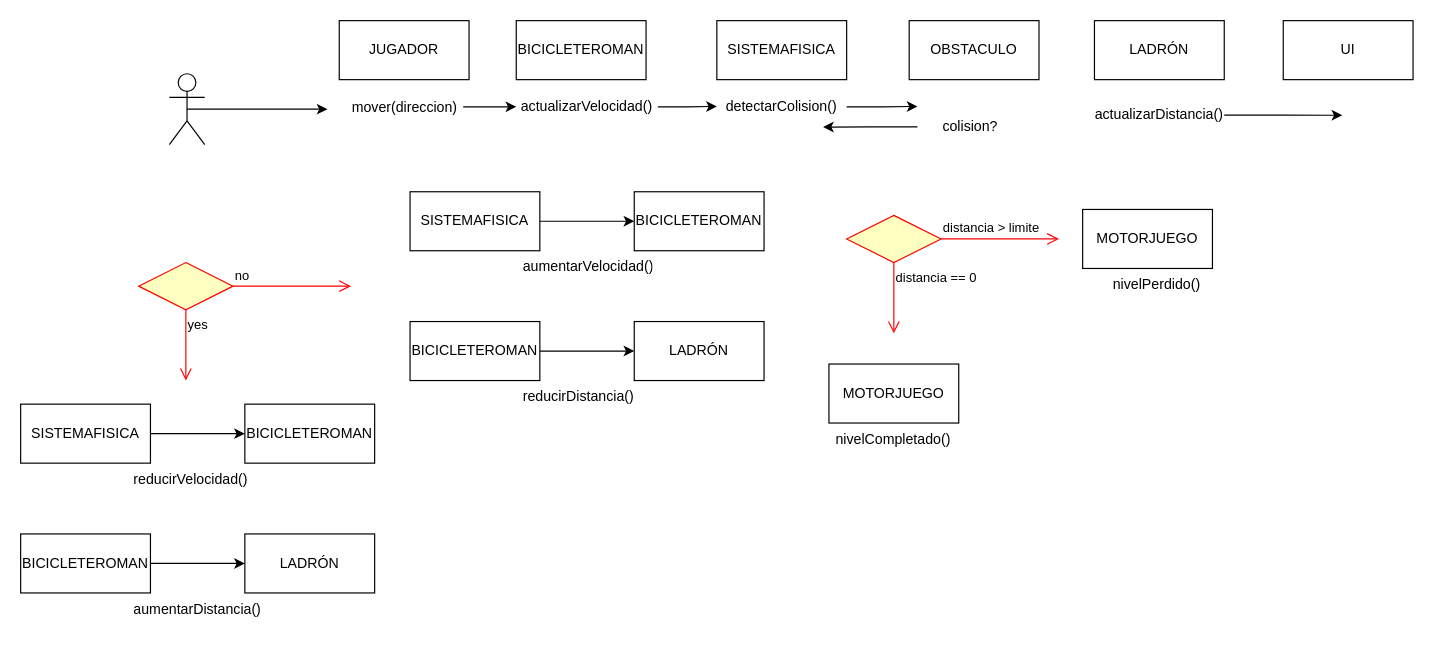
The diagram is 1434 pixels wide and 653 high, and some of its shapes have lost their labels. The centre of each missing label's shape, as x and y in pixels:
Actor: (186,109)
COLISION: (185,285)
distancia: (893,238)
